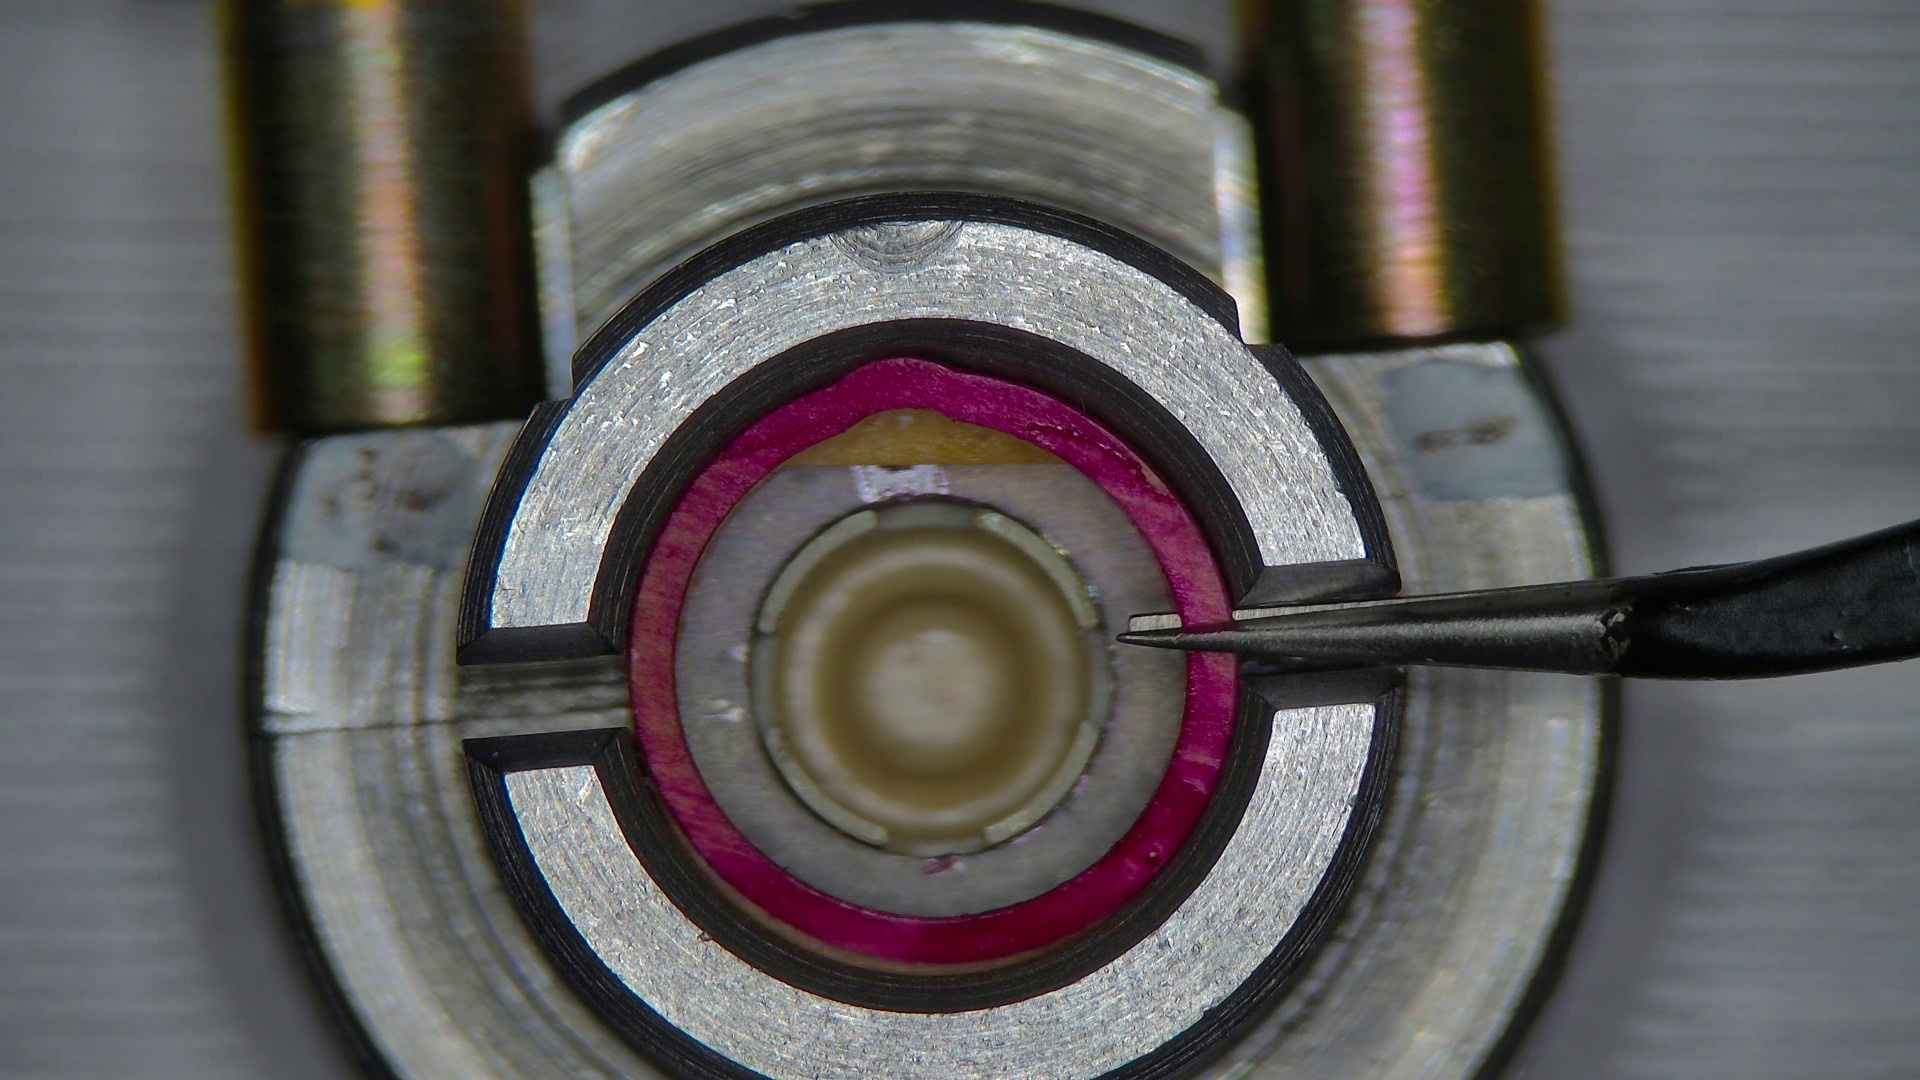GreyOring: (629, 355, 1236, 965)
YellowOring: (675, 462, 1184, 915)
redOring: (782, 404, 1065, 468)
